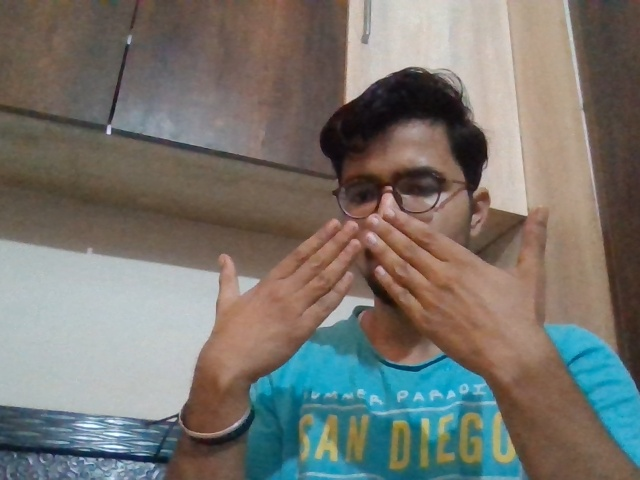thankyou: (206, 200, 569, 411)
